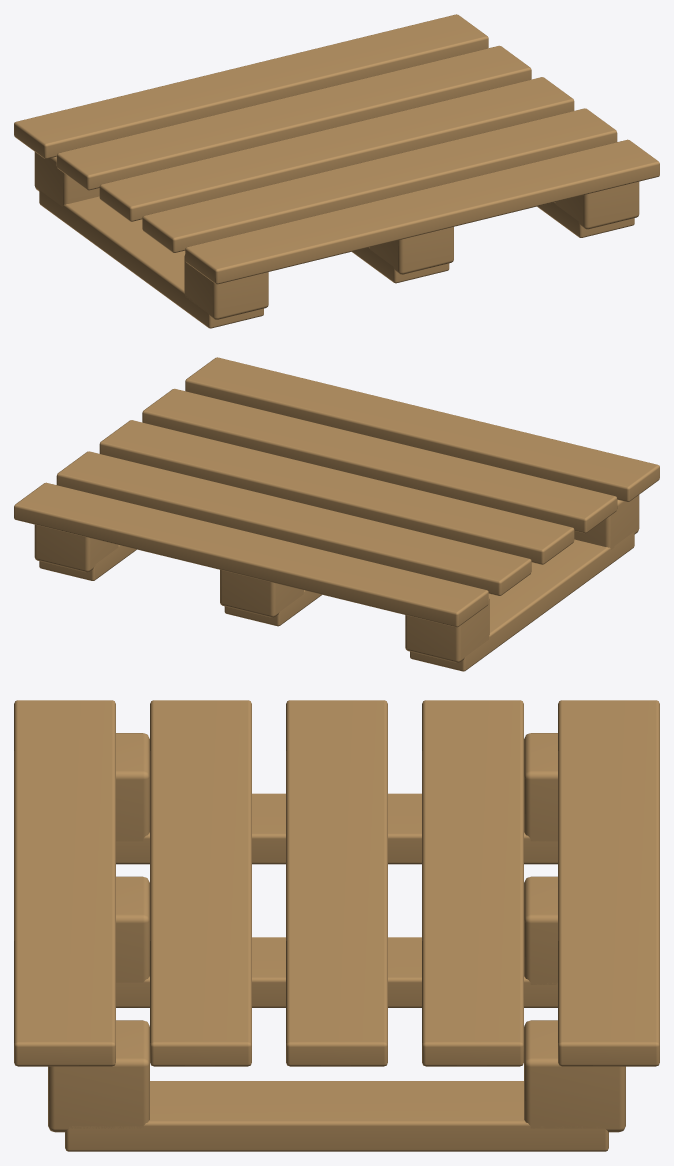
Rendered from Euro_Pallet.fbx.
3 renders of one model, top to bottom at view 1: azimuth 30°, elevation 25°; view 2: azimuth 150°, elevation 25°; view 3: azimuth 270°, elevation 25°, orthographic. The views are drawn at different scales.
Visible parts, largest first — view 1: Euro_Pallet_Wood; view 2: Euro_Pallet_Wood; view 3: Euro_Pallet_Wood.
Boxes of the visible parts, x1,y1,x2,y2 form: Euro_Pallet_Wood: (14, 14, 659, 328); Euro_Pallet_Wood: (14, 357, 659, 671); Euro_Pallet_Wood: (14, 700, 659, 1151).
Size of the model in its own units: 120 by 19 by 95.
